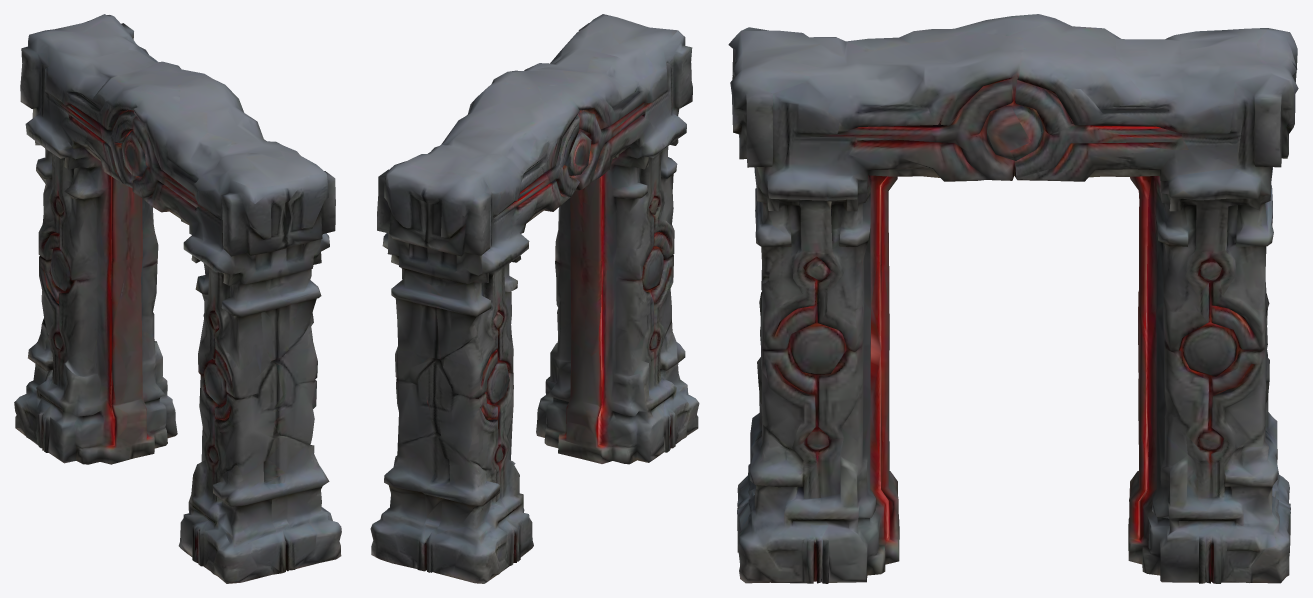
The model's file is gate.glb.
3 views of the same model, side by side, from view 1: azimuth 30°, elevation 25°; view 2: azimuth 150°, elevation 25°; view 3: azimuth 270°, elevation 25° (orthographic). The views are drawn at different scales.
Parts seen in each view (by area): view 1: tripo_node_6e2195f3-c666-4717-80bc-7849c3d6e230; view 2: tripo_node_6e2195f3-c666-4717-80bc-7849c3d6e230; view 3: tripo_node_6e2195f3-c666-4717-80bc-7849c3d6e230.
Part boxes in pixels (x1,y1,x2,y2): tripo_node_6e2195f3-c666-4717-80bc-7849c3d6e230: (14, 14, 341, 583); tripo_node_6e2195f3-c666-4717-80bc-7849c3d6e230: (370, 14, 699, 583); tripo_node_6e2195f3-c666-4717-80bc-7849c3d6e230: (728, 14, 1298, 583).
Size of the model in its own units: 0.3041 by 0.9995 by 1.
Materials: 1 (1 with a texture image).
